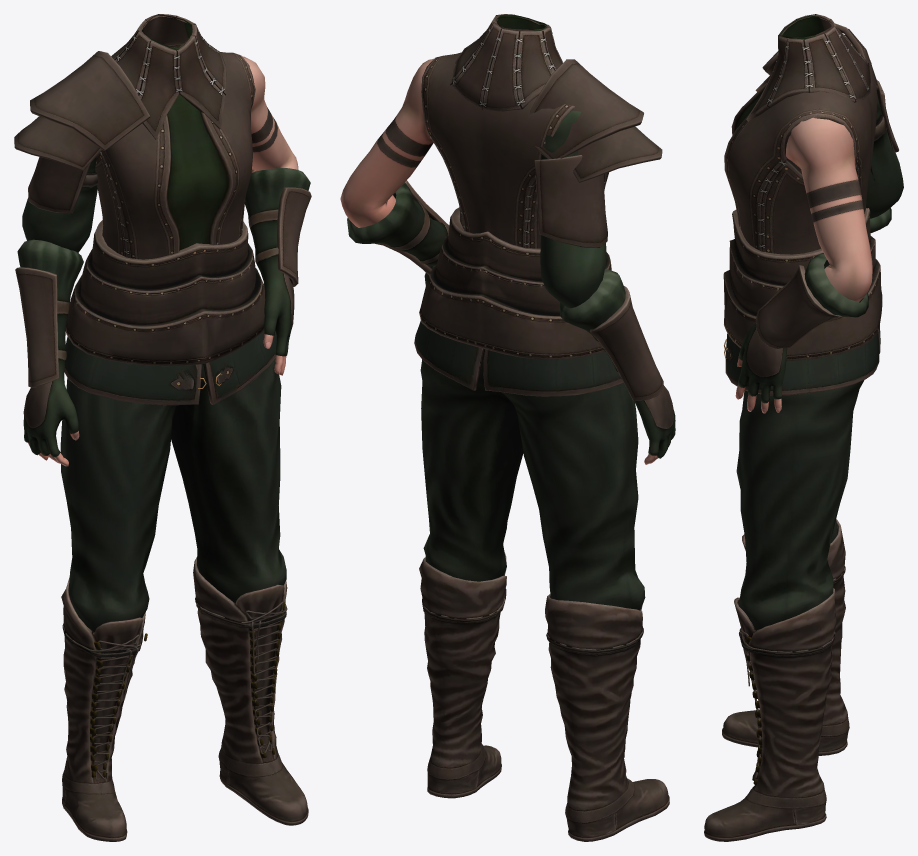
Rendered from sylvan_ranger.glb.
The picture shows the model from 3 angles, left to right: view 1: azimuth 30°, elevation 25°; view 2: azimuth 150°, elevation 25°; view 3: azimuth 270°, elevation 25°; orthographic projection. The views are drawn at different scales.
Visible parts, largest first — view 1: outfit; view 2: outfit; view 3: outfit.
Part boxes in pixels (x1,y1,x2,y2): outfit: [14, 14, 311, 841]; outfit: [340, 14, 675, 841]; outfit: [704, 14, 903, 841].
Bounding box in the file's own units: 0.7154 × 1.8 × 0.4217.
Materials: 4 (4 with a texture image).
